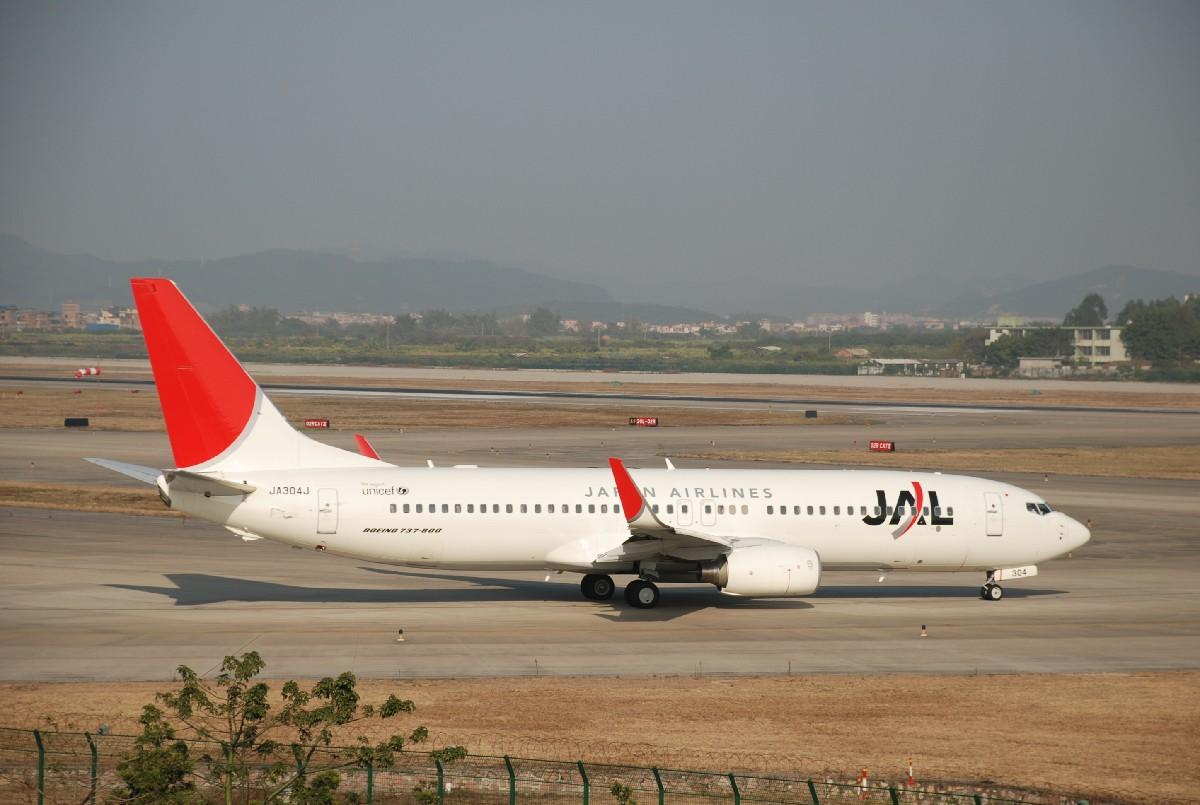airplane: (43, 275, 1109, 616)
